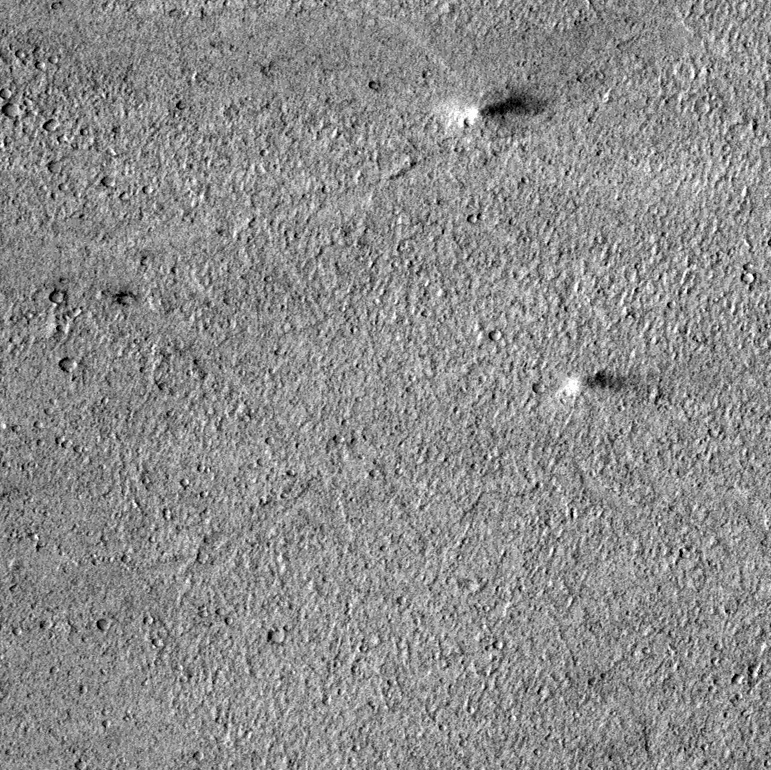dust_devil: (440, 87, 549, 130), (561, 367, 628, 397)
